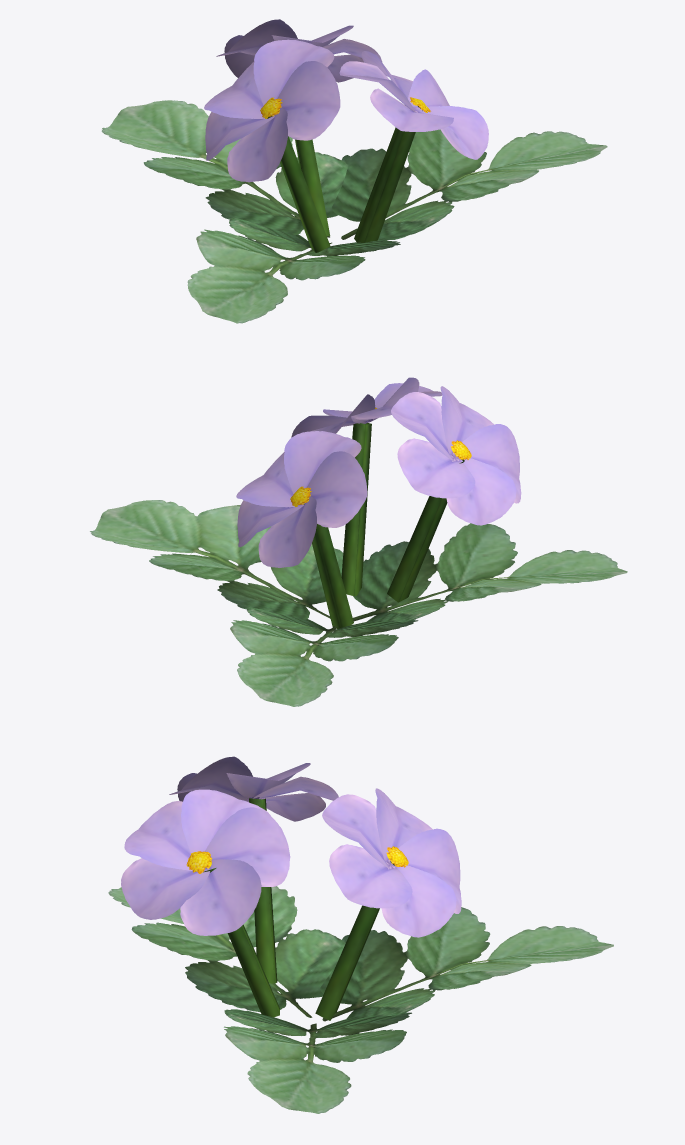
Rendered from indigof4.fbx.
3 views of the same model, one above another, from view 1: azimuth 30°, elevation 25°; view 2: azimuth 150°, elevation 25°; view 3: azimuth 270°, elevation 25° (orthographic). The views are drawn at different scales.
Parts seen in each view (by area): view 1: indigof04; view 2: indigof04; view 3: indigof04.
Part boxes in pixels (x1=…): indigof04: x1=101, y1=19, x2=607, y2=323; indigof04: x1=90, y1=377, x2=627, y2=706; indigof04: x1=108, y1=756, x2=613, y2=1113.
Size of the model in its own units: 33.92 by 13.77 by 33.31.
